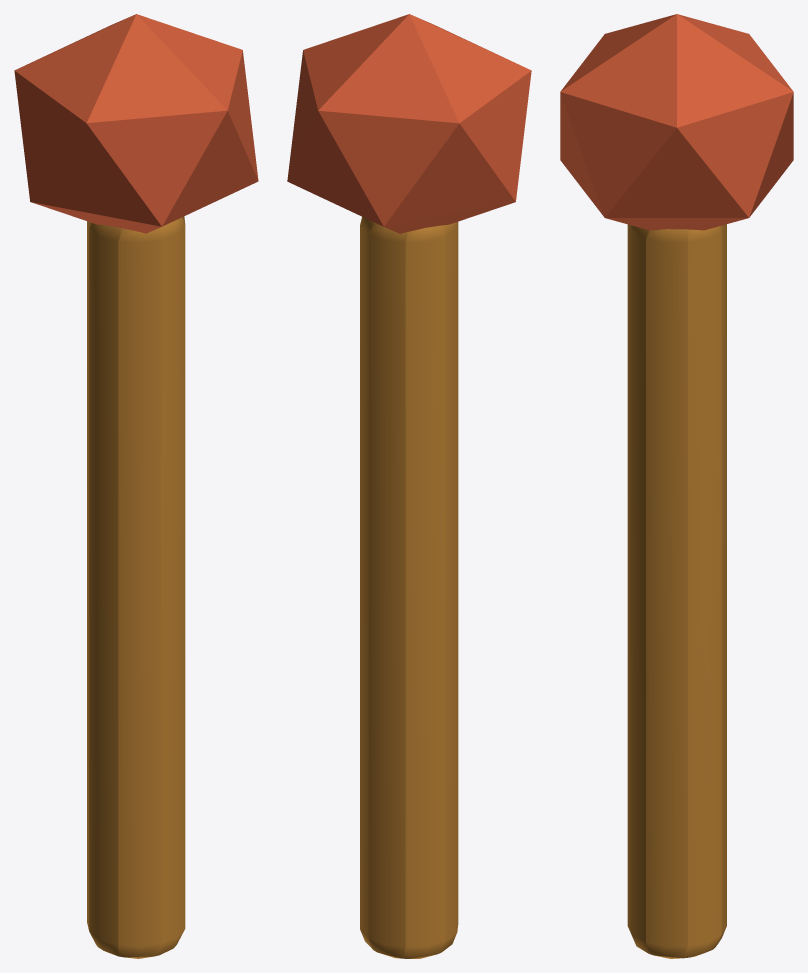
The model's file is prop_fishing_marker.glb.
3 views of the same model, side by side, from view 1: azimuth 30°, elevation 25°; view 2: azimuth 150°, elevation 25°; view 3: azimuth 270°, elevation 25° (orthographic).
Visible parts, largest first — view 1: fmk_pole, fmk_buoy; view 2: fmk_pole, fmk_buoy; view 3: fmk_pole, fmk_buoy.
Part boxes in pixels (box(x1,y1,x2,y2)): fmk_pole: box(87, 216, 185, 958); fmk_buoy: box(14, 14, 258, 233); fmk_pole: box(360, 217, 458, 958); fmk_buoy: box(287, 14, 531, 233); fmk_pole: box(627, 224, 726, 958); fmk_buoy: box(560, 14, 793, 230).
Bounding box in the file's own units: 0.1789 × 0.75 × 0.1701.
